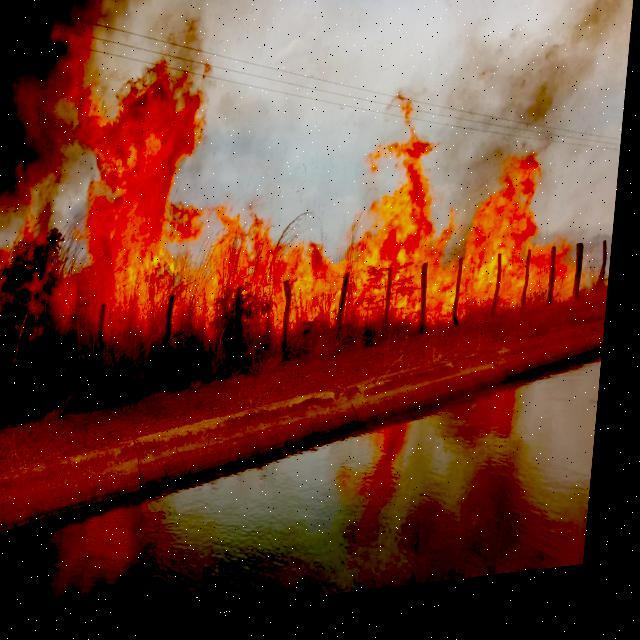Fire: (0, 15, 608, 384)
